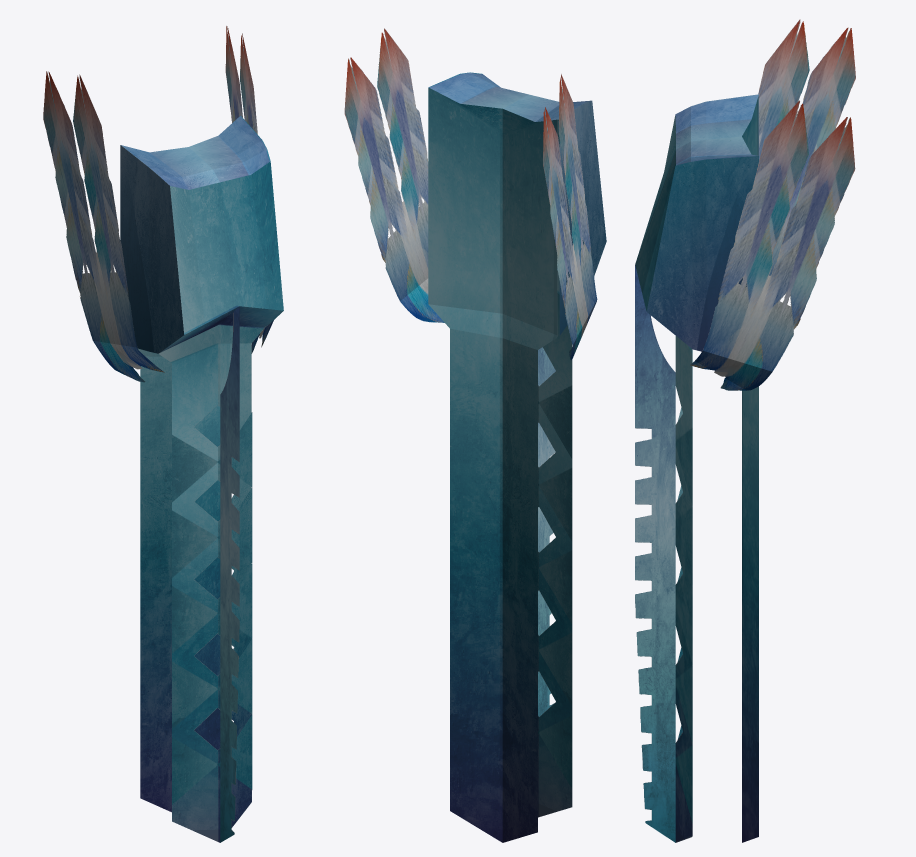
File: taste_1.obj
3 views of the same model, side by side, from view 1: azimuth 30°, elevation 25°; view 2: azimuth 150°, elevation 25°; view 3: azimuth 270°, elevation 25° (orthographic). The views are drawn at different scales.
Visible parts, largest first — view 1: head, ear_R, ear_L; view 2: head, ear_L, ear_R; view 3: head, ear_L, ear_R.
Part boxes in pixels (bbox=[...]): head: bbox=[120, 115, 283, 842]; ear_R: bbox=[43, 71, 164, 382]; ear_L: bbox=[225, 26, 273, 353]; head: bbox=[428, 72, 606, 842]; ear_L: bbox=[344, 28, 444, 322]; ear_R: bbox=[543, 74, 597, 360]; head: bbox=[635, 94, 758, 842]; ear_L: bbox=[690, 100, 855, 390]; ear_R: bbox=[758, 19, 855, 275].
Size of the model in its own units: 154 by 561 by 172.
1 material, 1 textured.
